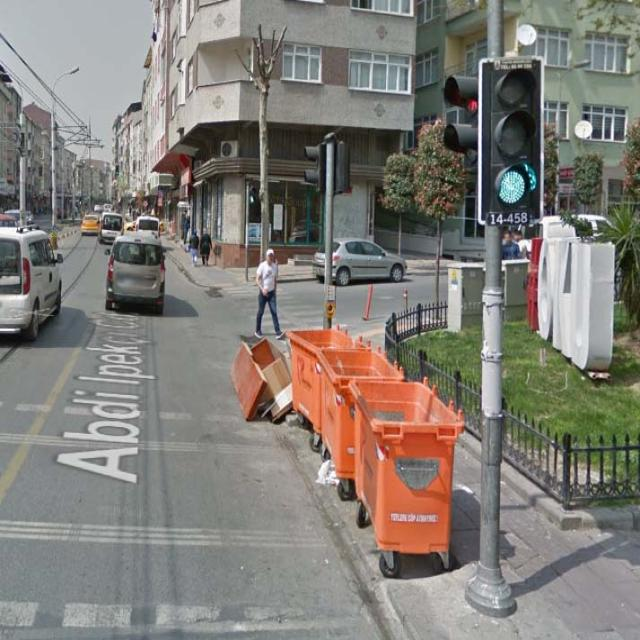yesil: (479, 59, 542, 222)
